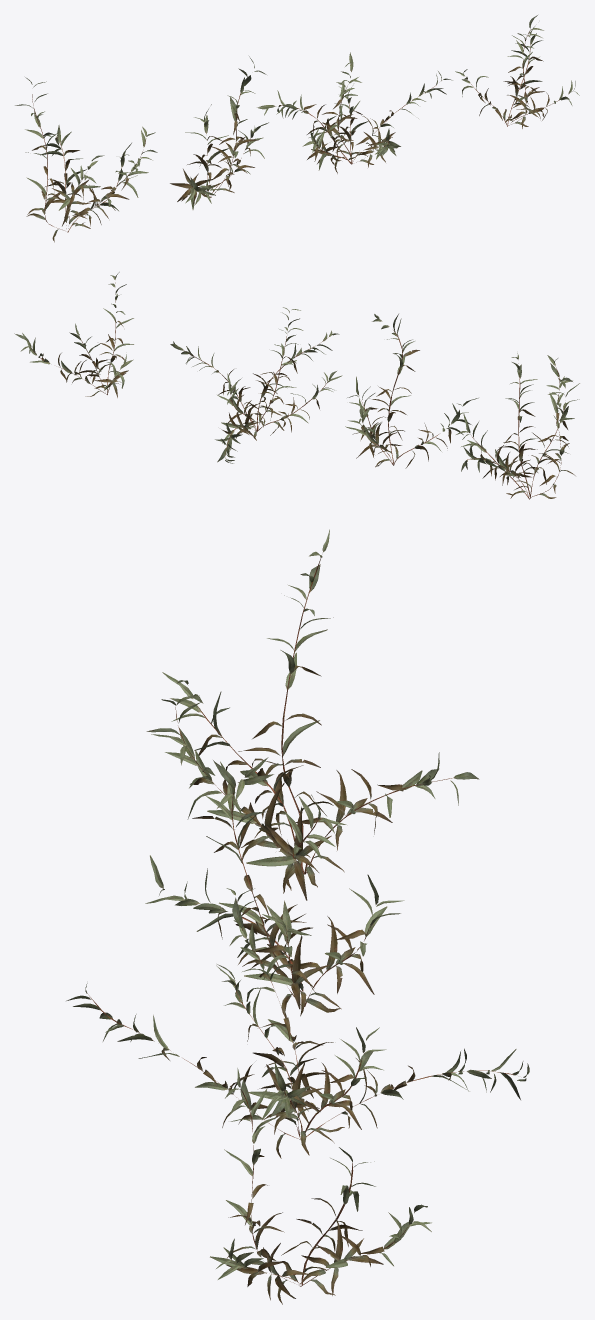
The model's file is shrub_02.glb.
The picture shows the model from 3 angles, top to bottom: view 1: azimuth 30°, elevation 25°; view 2: azimuth 150°, elevation 25°; view 3: azimuth 270°, elevation 25°; orthographic projection. The views are drawn at different scales.
Parts seen in each view (by area): view 1: shrub_02_a, shrub_02_c, shrub_02_b, shrub_02_d; view 2: shrub_02_a, shrub_02_c, shrub_02_b, shrub_02_d; view 3: shrub_02_a, shrub_02_c, shrub_02_b, shrub_02_d.
Boxes of the visible parts, x1,y1,x2,y2 form: shrub_02_a: (15,77,157,242); shrub_02_c: (257,52,452,173); shrub_02_b: (170,56,268,209); shrub_02_d: (455,15,579,128); shrub_02_a: (456,353,579,499); shrub_02_c: (170,307,342,463); shrub_02_b: (345,314,478,468); shrub_02_d: (14,272,133,397); shrub_02_a: (146,529,479,900); shrub_02_c: (66,888,529,1158); shrub_02_b: (145,757,404,1017); shrub_02_d: (210,1068,431,1304).
Bounding box in the file's own units: 6.05 × 1.7 × 2.29.
1 material, 1 textured.
